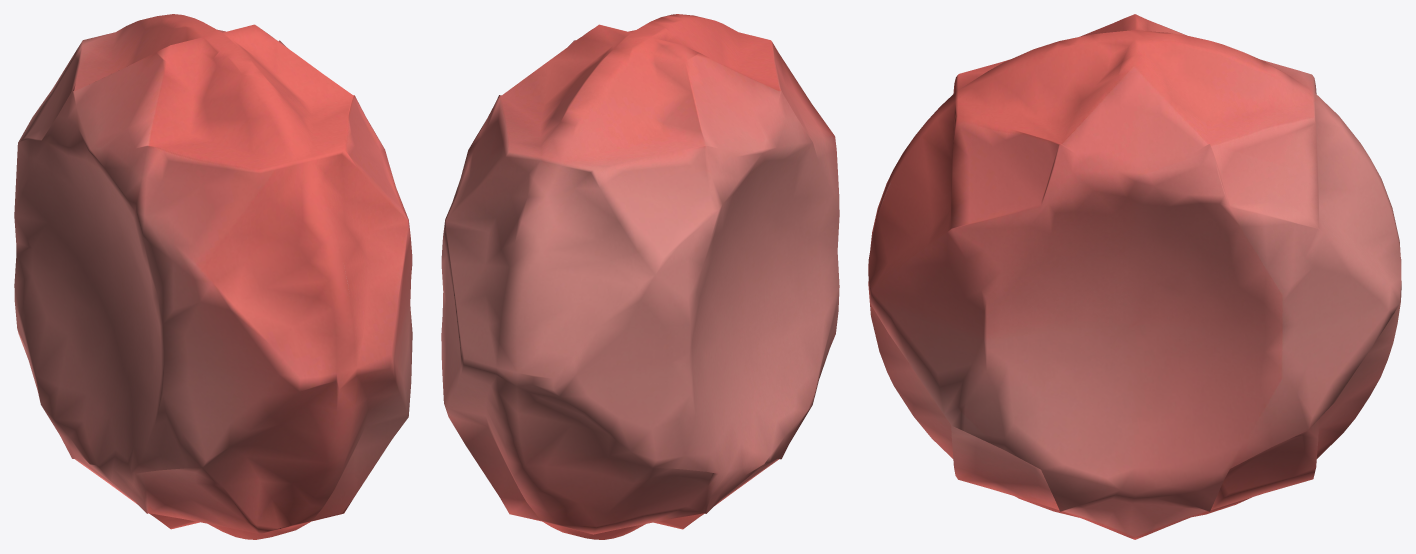
File: tripo_convert_3de11a1c-c51c-4eff-9833-4105d1be15cd.fbx
3 renders of one model, left to right at view 1: azimuth 30°, elevation 25°; view 2: azimuth 150°, elevation 25°; view 3: azimuth 270°, elevation 25°, orthographic.
Visible parts, largest first — view 1: tripo_node_3de11a1c; view 2: tripo_node_3de11a1c; view 3: tripo_node_3de11a1c.
Part boxes in pixels (x1=…): tripo_node_3de11a1c: x1=14, y1=14, x2=412, y2=539; tripo_node_3de11a1c: x1=441, y1=14, x2=839, y2=539; tripo_node_3de11a1c: x1=868, y1=14, x2=1401, y2=539.
Bounding box in the file's own units: 0.5309 × 0.9803 × 0.9782.
Materials: 1 (1 with a texture image).
